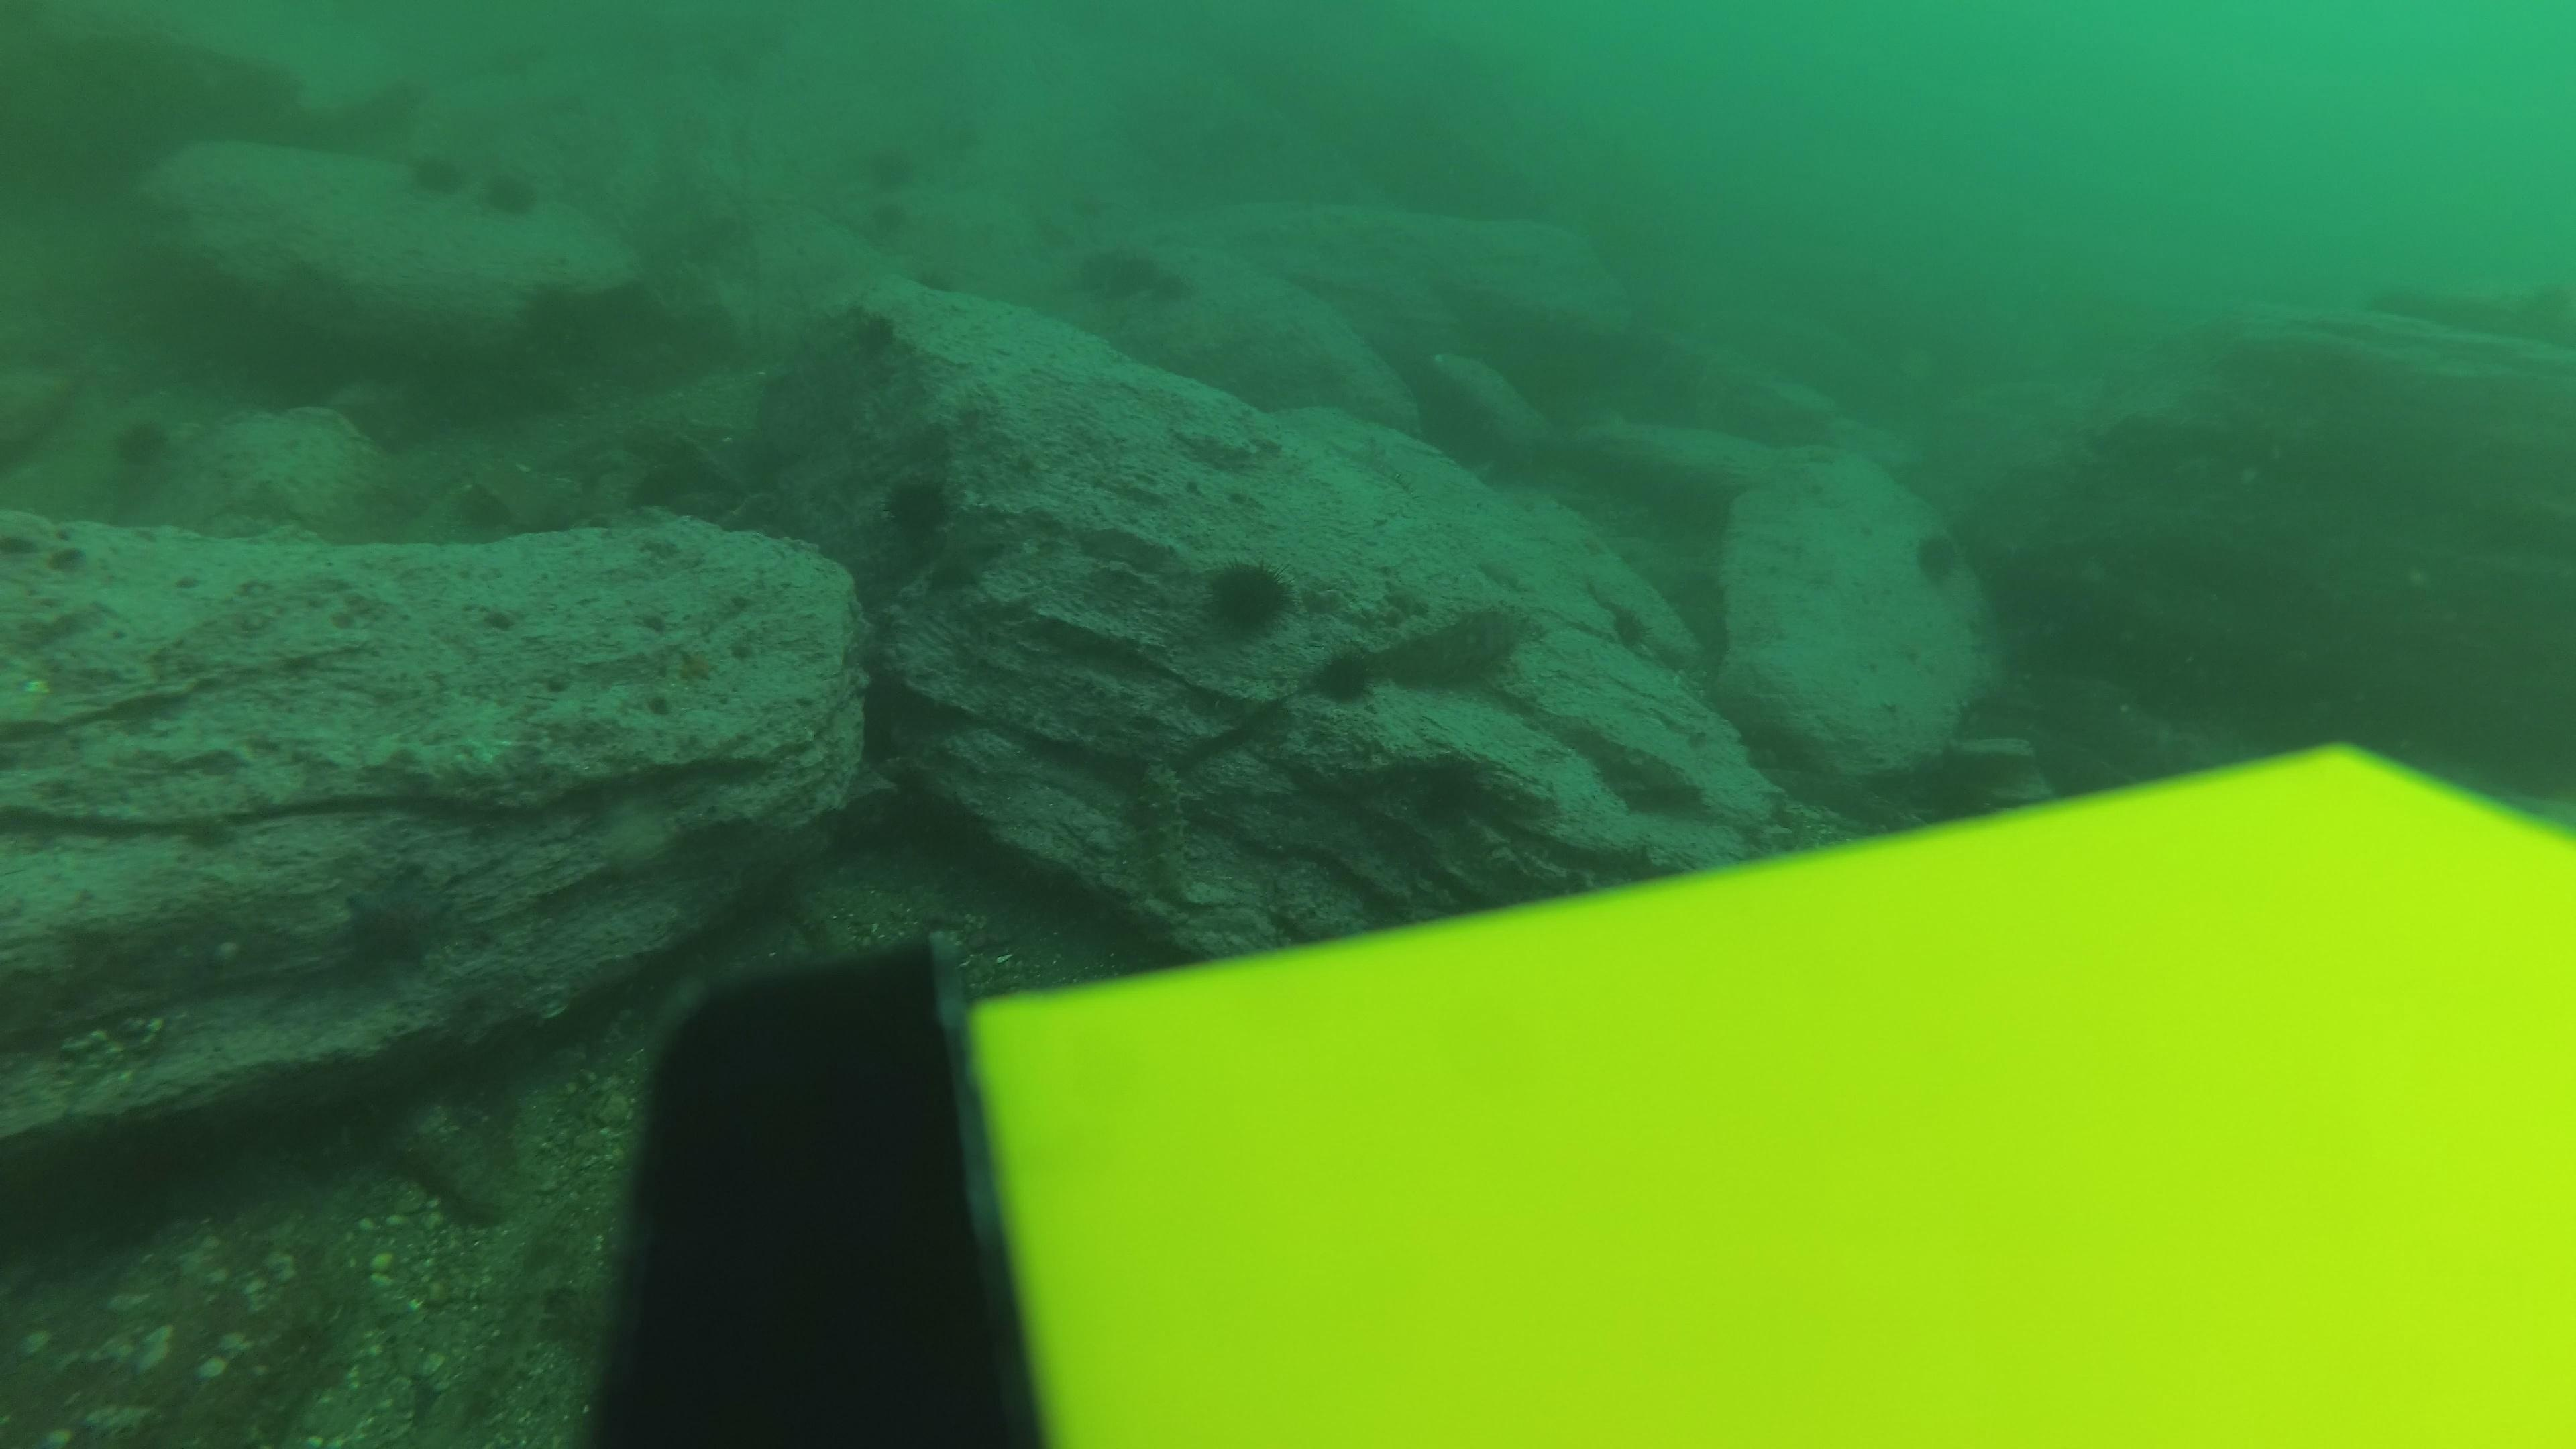echinus: (1191, 552, 1302, 648), (1070, 235, 1191, 315), (872, 465, 968, 556), (97, 410, 188, 506), (433, 478, 513, 552), (621, 456, 702, 529), (1306, 640, 1387, 711), (1905, 520, 1971, 591), (856, 129, 925, 195), (851, 186, 920, 251), (697, 32, 766, 97), (476, 161, 545, 225), (925, 106, 994, 170), (1399, 745, 1468, 809), (1596, 594, 1665, 658), (398, 143, 469, 205)
holothurian: (460, 1249, 600, 1412), (375, 1120, 499, 1228), (1132, 745, 1200, 895)
starfish: (333, 860, 460, 977), (911, 522, 1012, 598)
